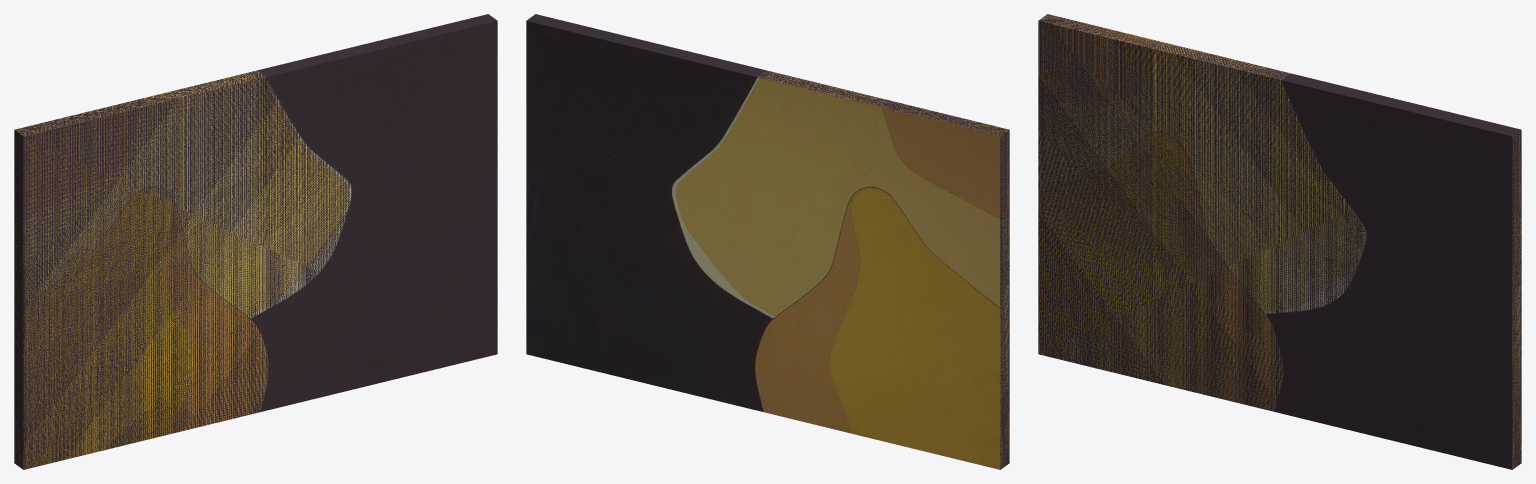
Rendered from Art_BlackYellow.fbx.
The picture shows the model from 3 angles, left to right: view 1: azimuth 30°, elevation 25°; view 2: azimuth 150°, elevation 25°; view 3: azimuth 330°, elevation 25°; orthographic projection.
Visible parts, largest first — view 1: Group1; view 2: Group1; view 3: Group1.
Boxes of the visible parts, x1,y1,x2,y2 form: Group1: (14,14,497,469); Group1: (526,14,1009,469); Group1: (1038,14,1521,469).
Size of the model in its own units: 96.06 by 64.55 by 3.27.
